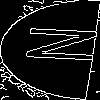N: (25, 25, 100, 65)
